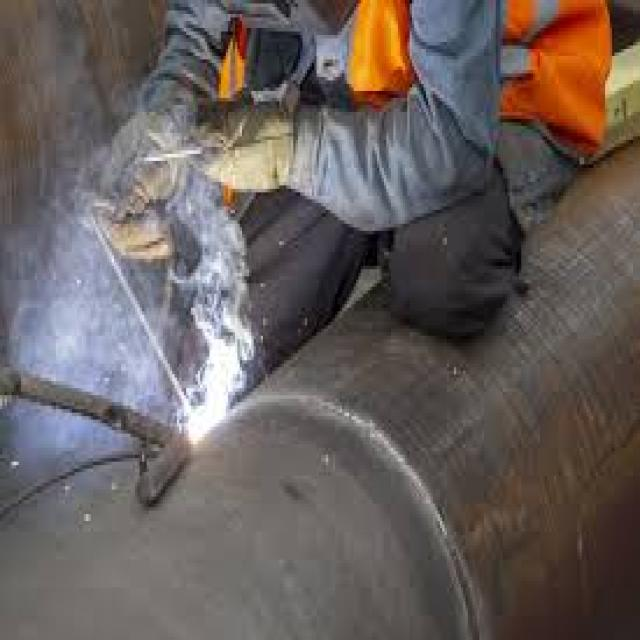welding: (190, 397, 224, 438)
